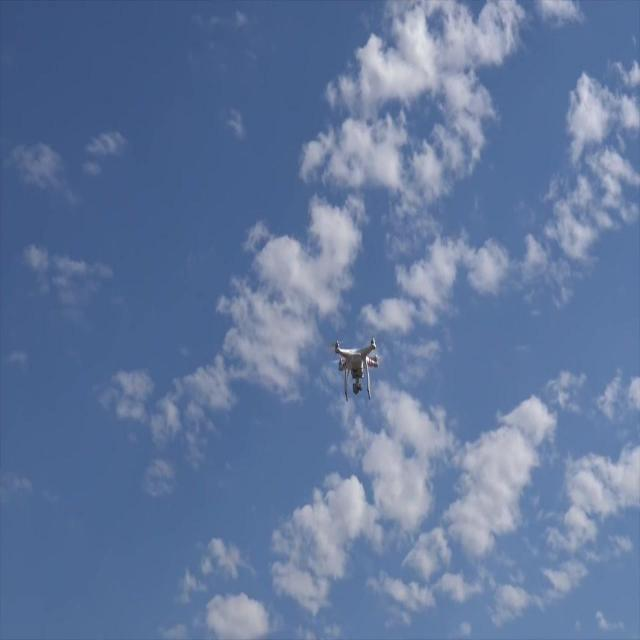UAV: (334, 336, 378, 401)
